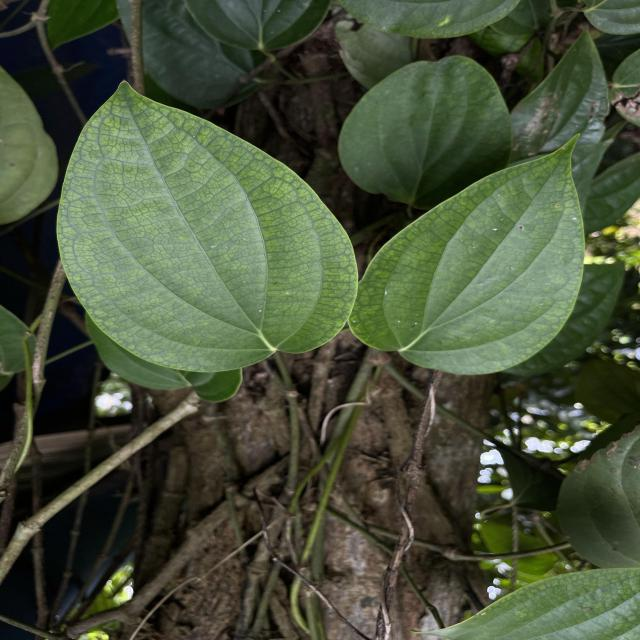Piper nigrum: (54, 76, 360, 374), (344, 132, 585, 376)
